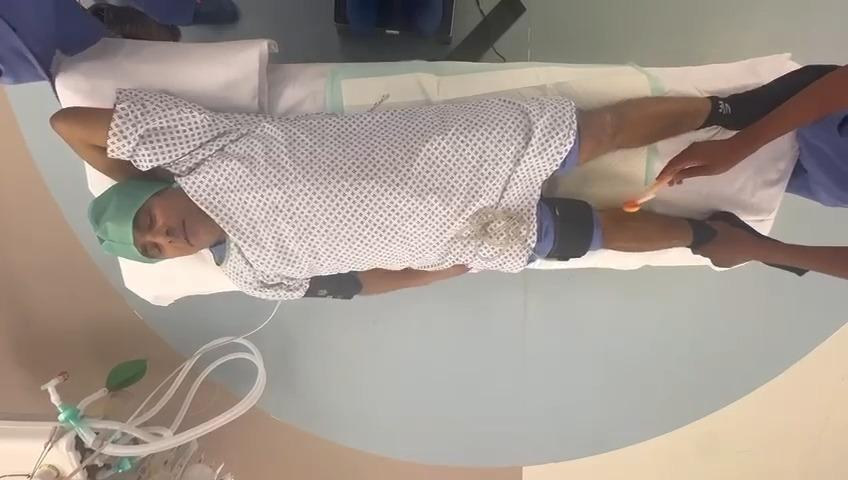patient: (51, 68, 835, 299), (544, 199, 595, 259)
prepstick: (623, 181, 669, 212)
